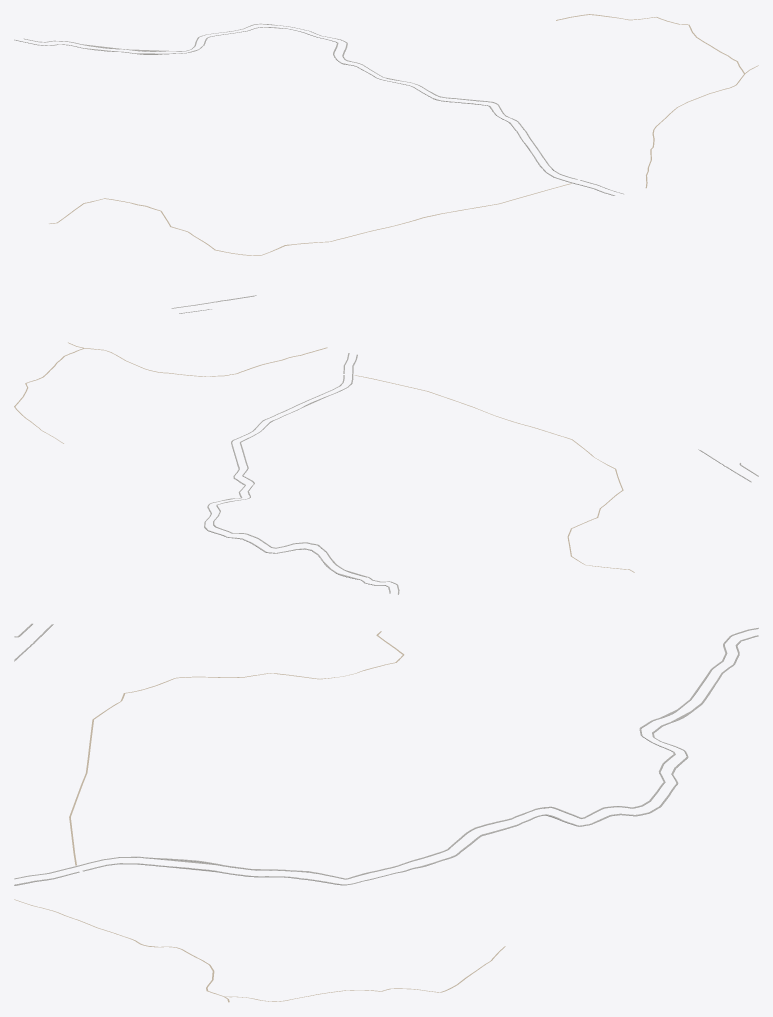
The model's file is ground_r1_c2.glb.
3 renders of one model, top to bottom at view 1: azimuth 30°, elevation 25°; view 2: azimuth 150°, elevation 25°; view 3: azimuth 270°, elevation 25°, orthographic. The views are drawn at different scales.
Parts seen in each view (by area): view 1: sidewalks, paths; view 2: sidewalks, paths; view 3: sidewalks, paths.
Part boxes in pixels (left/top/right/bottom): sidewalks: left=14, top=23, right=623, bottom=313; paths: left=49, top=14, right=758, bottom=255; sidewalks: left=204, top=353, right=758, bottom=594; paths: left=14, top=342, right=634, bottom=572; sidewalks: left=14, top=623, right=758, bottom=885; paths: left=14, top=631, right=505, bottom=1002.
Bounding box in the file's own units: 1066 × 85.84 × 788.
